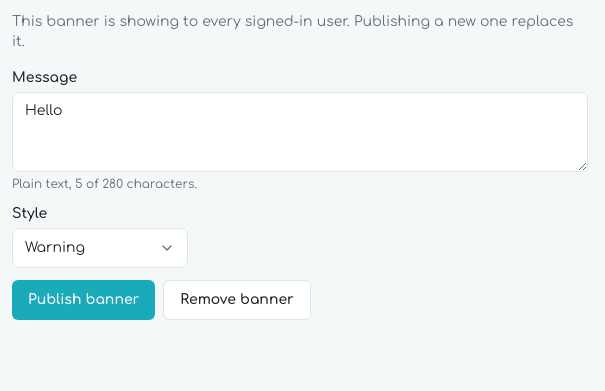
Test: AnnouncementForm › shows why removing failed
Click the button "Remove banner".
click(237, 300)  # box [163,280,311,320]
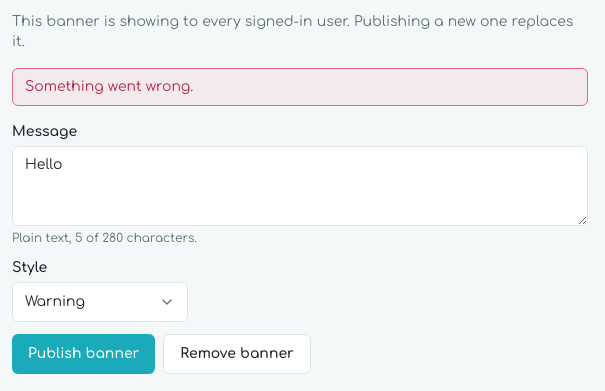
Expected: the text "Something went wrong." is shown, [12,68,588,106]
